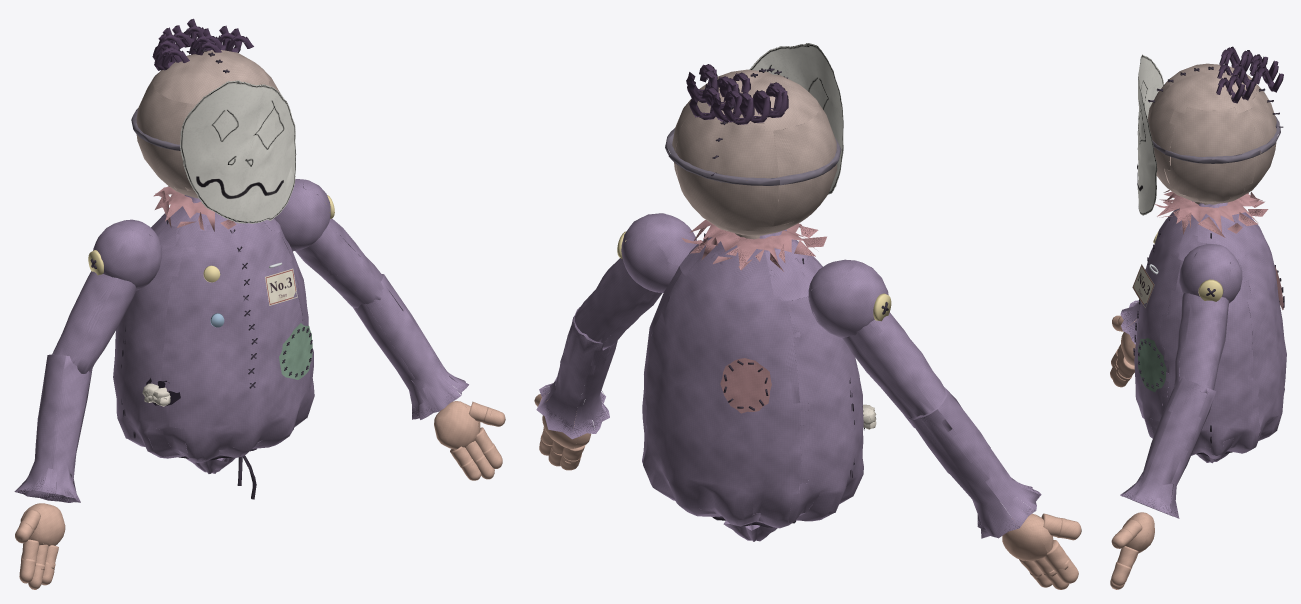
The model's file is LeDessine_PNJ.glb.
The picture shows the model from 3 angles, left to right: view 1: azimuth 30°, elevation 25°; view 2: azimuth 150°, elevation 25°; view 3: azimuth 270°, elevation 25°; orthographic projection. The views are drawn at different scales.
Visible parts, largest first — view 1: Corps, Masque_Papier, Tete_Tissu, AvantBras_D, AvantBras_G, BrasHaut_D, BrasHaut_G, Epaule_Boule_D, Epaule_Boule_G, Laine, Paume_G, Piece_Rapiecee (+3 smaller); view 2: Corps, Tete_Tissu, AvantBras_D, BrasHaut_D, AvantBras_G, Epaule_Boule_D, Epaule_Boule_G, BrasHaut_G, Laine, Masque_Papier, Col, Piece_Dos (+2 smaller); view 3: Corps, Tete_Tissu, AvantBras_G, BrasHaut_G, Masque_Papier, Epaule_Boule_G, Col, Laine, Piece_Rapiecee, Elastique, Paume_G, AvantBras_D (+8 smaller).
Part boxes in pixels (x1,y1,x2,y2): Corps: (113,195,314,462); Masque_Papier: (180,80,296,223); Tete_Tissu: (136,50,281,198); AvantBras_D: (14,354,92,502); AvantBras_G: (353,274,468,419); BrasHaut_D: (52,271,136,373); BrasHaut_G: (295,218,388,308); Epaule_Boule_D: (93,219,161,290); Epaule_Boule_G: (263,179,330,251); Laine: (152,18,253,70); Paume_G: (434,401,480,449); Piece_Rapiecee: (279,323,312,379); Corps: (642,229,863,528); Tete_Tissu: (672,69,837,235); AvantBras_D: (908,387,1041,538); BrasHaut_D: (842,312,945,427); AvantBras_G: (536,307,617,439); Epaule_Boule_D: (808,259,888,337); Epaule_Boule_G: (621,213,697,292); BrasHaut_G: (572,258,662,350); Laine: (686,64,788,124); Masque_Papier: (749,43,843,194); Col: (681,220,826,271); Piece_Dos: (720,358,771,413); Corps: (1134,201,1286,459); Tete_Tissu: (1147,63,1276,204); AvantBras_G: (1120,377,1216,518); BrasHaut_G: (1174,265,1230,398); Masque_Papier: (1137,54,1164,215); Epaule_Boule_G: (1179,244,1242,303); Col: (1155,190,1268,237); Laine: (1216,46,1283,103); Piece_Rapiecee: (1138,338,1166,391); Elastique: (1152,116,1280,163); Paume_G: (1122,512,1154,553); AvantBras_D: (1120,300,1140,344).
Bounding box in the file's own units: 1.11 × 1 × 0.3684.
Materials: 16 (11 with a texture image).
